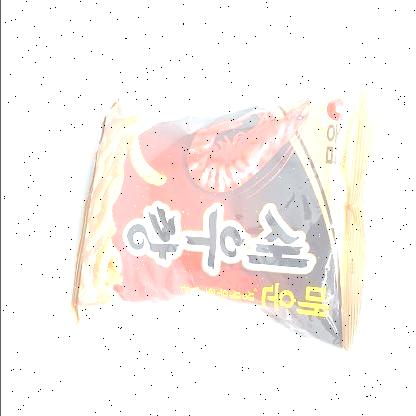Others: (61, 72, 392, 356)
